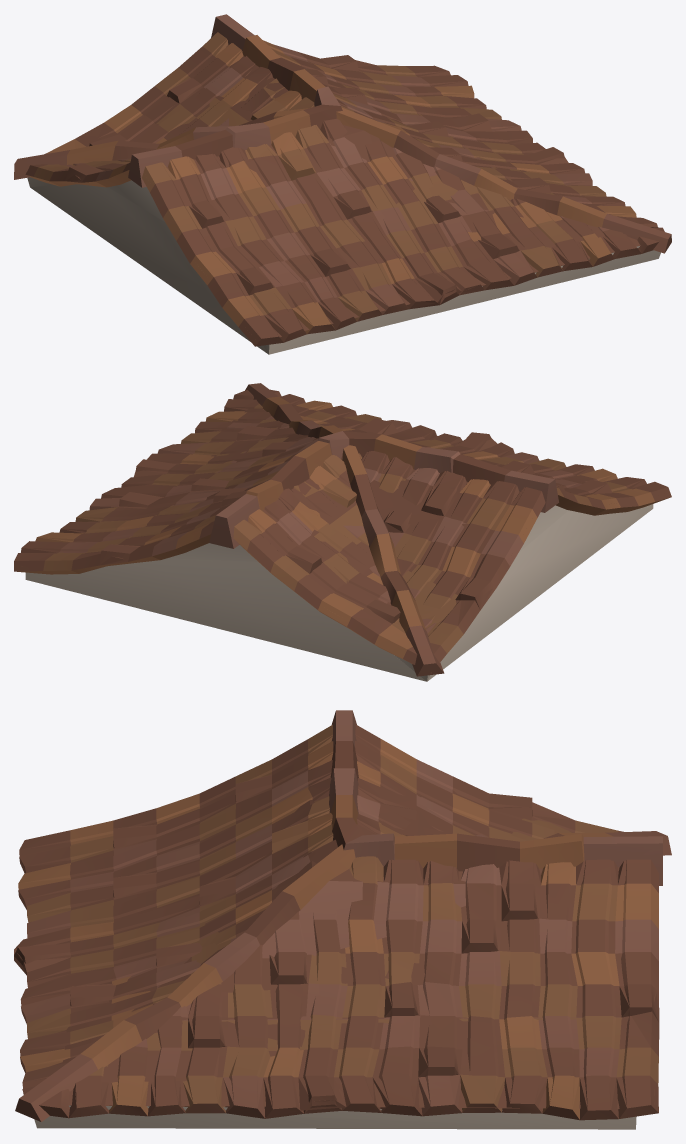
File: Roof 04.fbx
The picture shows the model from 3 angles, top to bottom: view 1: azimuth 30°, elevation 25°; view 2: azimuth 150°, elevation 25°; view 3: azimuth 270°, elevation 25°; orthographic projection. The views are drawn at different scales.
Parts seen in each view (by area): view 1: Roof 04 high, Roof 04, Roof 04 low; view 2: Roof 04 high, Roof 04, Roof 04 low; view 3: Roof 04 high, Roof 04, Roof 04 low.
Boxes of the visible parts, x1,y1,x2,y2 form: Roof 04 high: [14, 32, 671, 354]; Roof 04: [49, 14, 660, 354]; Roof 04 low: [27, 44, 640, 336]; Roof 04 high: [14, 383, 671, 681]; Roof 04: [21, 390, 652, 638]; Roof 04 low: [21, 404, 568, 681]; Roof 04 high: [14, 710, 671, 1126]; Roof 04: [14, 735, 662, 1129]; Roof 04 low: [29, 793, 654, 1129].
Size of the model in its own units: 4.34 by 1.17 by 4.32.
1 material, 1 textured.
